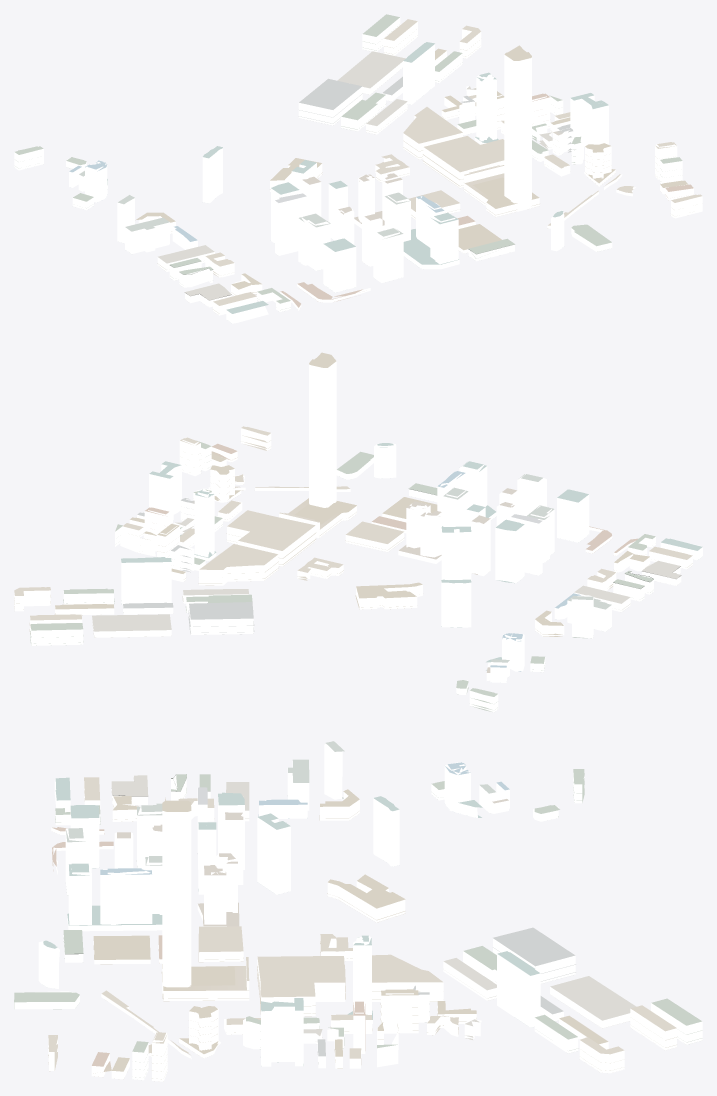
File: buildings-7_3-coarse.glb
The picture shows the model from 3 angles, top to bottom: view 1: azimuth 30°, elevation 25°; view 2: azimuth 150°, elevation 25°; view 3: azimuth 270°, elevation 25°; orthographic projection. The views are drawn at different scales.
Visible parts, largest first — view 1: block_7_3_office, block_7_3_roof, block_7_3_residential; view 2: block_7_3_office, block_7_3_roof, block_7_3_residential; view 3: block_7_3_roof, block_7_3_office, block_7_3_residential.
Part boxes in pixels (box(x1,y1,x2,y2)): block_7_3_office: box(69, 44, 608, 323); block_7_3_roof: box(15, 14, 701, 313); block_7_3_residential: box(14, 17, 702, 315); block_7_3_office: box(121, 361, 702, 682); block_7_3_roof: box(14, 352, 702, 711); block_7_3_residential: box(14, 428, 692, 712); block_7_3_roof: box(14, 741, 702, 1081); block_7_3_office: box(38, 743, 540, 1066); block_7_3_residential: box(14, 773, 702, 1081).
Bounding box in the file's own units: 667 × 202 × 651.
